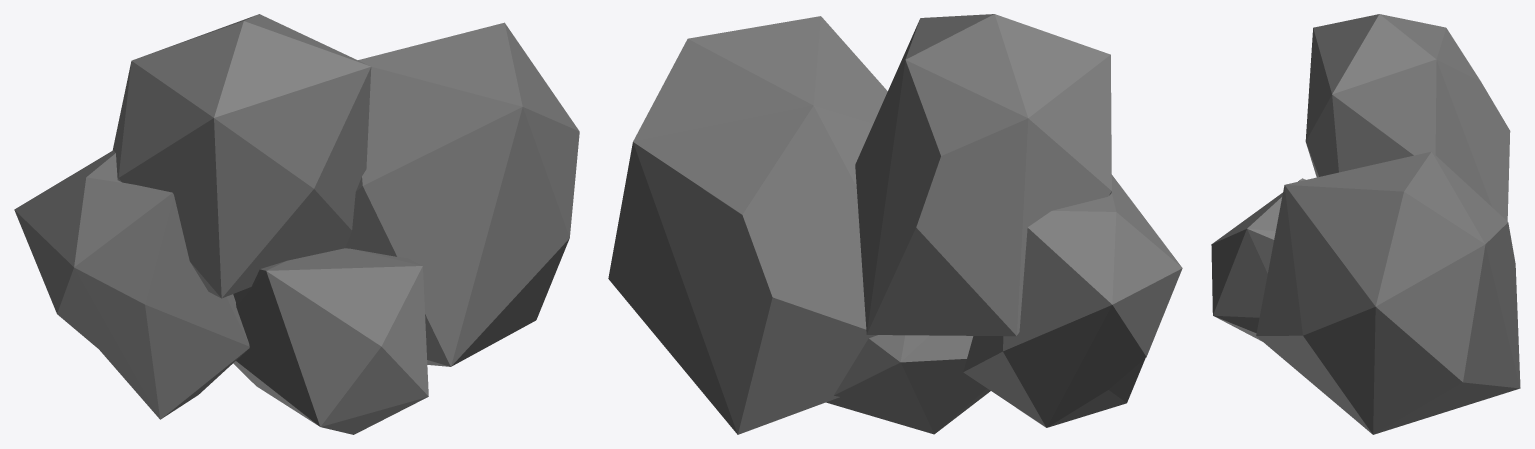
The model's file is Pirita.fbx.
3 views of the same model, side by side, from view 1: azimuth 30°, elevation 25°; view 2: azimuth 150°, elevation 25°; view 3: azimuth 270°, elevation 25° (orthographic). The views are drawn at different scales.
Parts seen in each view (by area): view 1: Pirita; view 2: Pirita; view 3: Pirita.
Boxes of the visible parts, box(x1,y1,x2,y2) form: Pirita: box(14, 14, 579, 434); Pirita: box(608, 14, 1182, 434); Pirita: box(1211, 14, 1520, 434).
Size of the model in its own units: 87.17 by 64.03 by 55.46.
